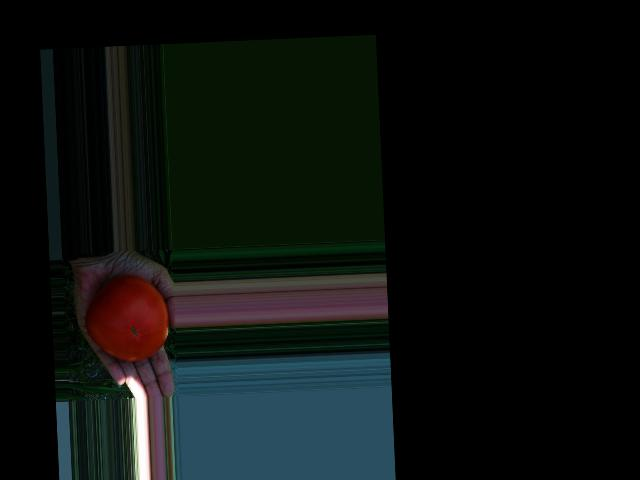tomato: (83, 274, 170, 363)
